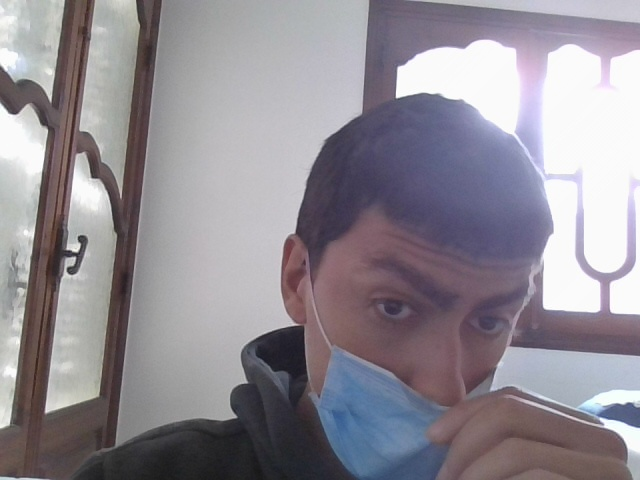mask_weared_incorrect: (329, 201, 533, 479)
